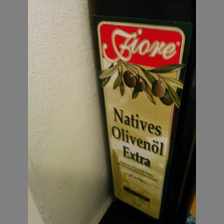oil: (89, 1, 197, 223)
